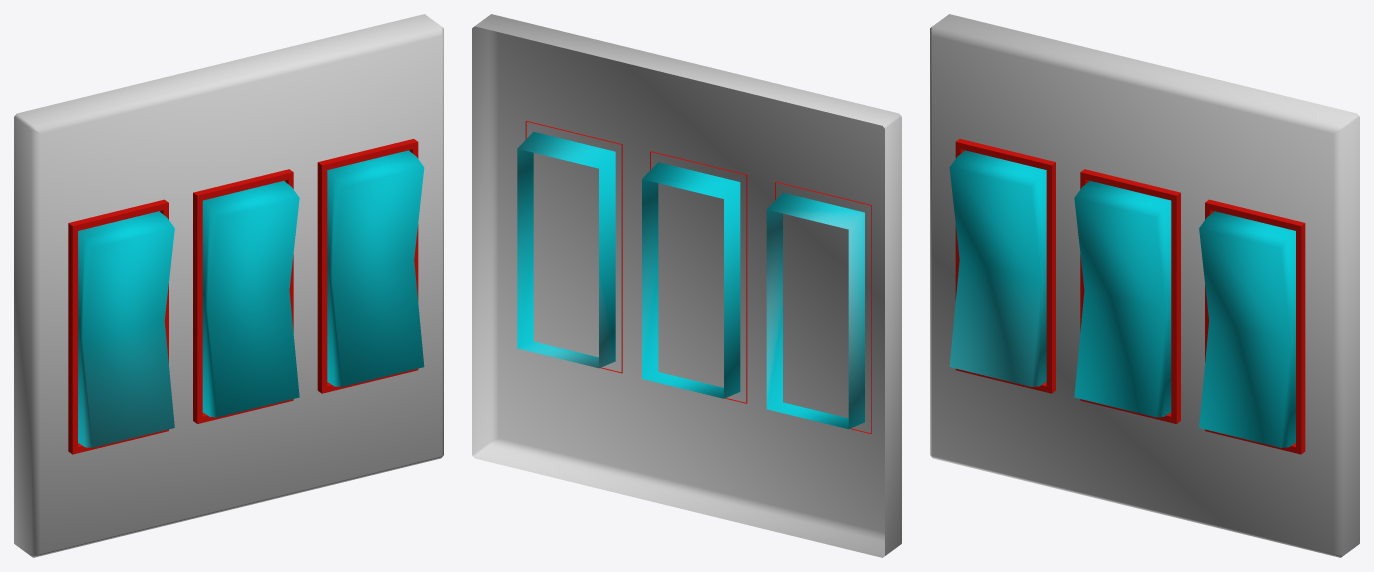
The model's file is mod_switch_T.fbx.
3 renders of one model, left to right at view 1: azimuth 30°, elevation 25°; view 2: azimuth 150°, elevation 25°; view 3: azimuth 330°, elevation 25°, orthographic.
Visible parts, largest first — view 1: module_base8, switch_2, switch_3, switch_1; view 2: module_base8, switch_3, switch_2, switch_1; view 3: module_base8, switch_2, switch_1, switch_3.
Boxes of the visible parts, box(x1,y1,x2,y2) form: module_base8: box(14, 14, 443, 557); switch_2: box(202, 181, 299, 417); switch_3: box(327, 150, 424, 386); switch_1: box(78, 211, 174, 447); module_base8: box(472, 14, 901, 557); switch_3: box(517, 131, 615, 368); switch_2: box(642, 162, 740, 398); switch_1: box(766, 192, 864, 429); module_base8: box(930, 14, 1359, 557); switch_2: box(1074, 181, 1171, 417); switch_1: box(949, 150, 1046, 386); switch_3: box(1199, 211, 1295, 447).
Bounding box in the file's own units: 6 × 6 × 0.9582.
